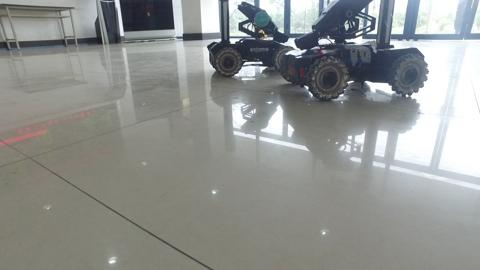chariot: (282, 1, 432, 103), (203, 1, 296, 77)
